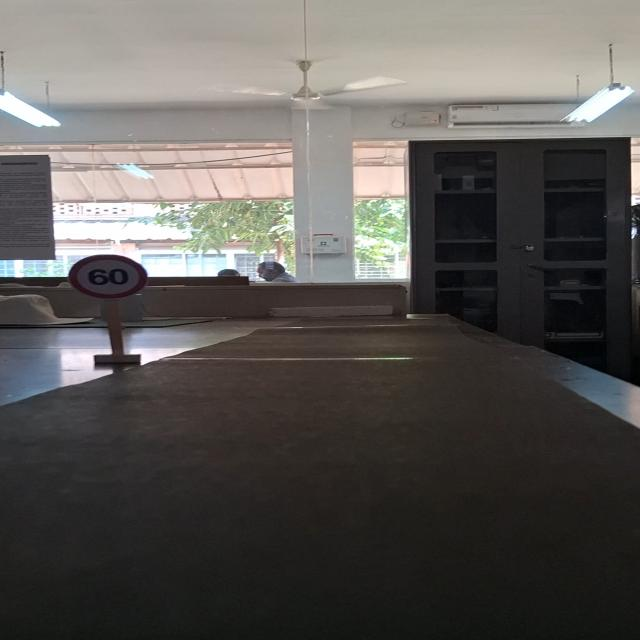Speed60: (66, 252, 150, 300)
